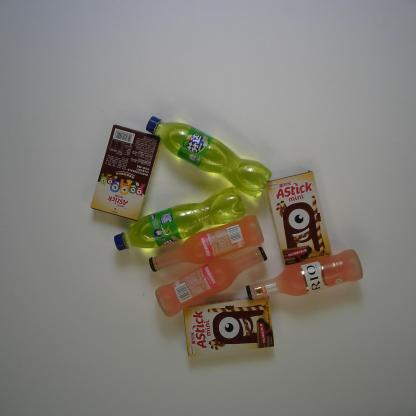Alcohol: (155, 245, 269, 317), (148, 214, 266, 273), (245, 248, 364, 300)
Dessert: (90, 123, 161, 222), (266, 169, 333, 268), (182, 295, 275, 356)
Drink: (145, 115, 273, 199), (113, 187, 248, 252)
